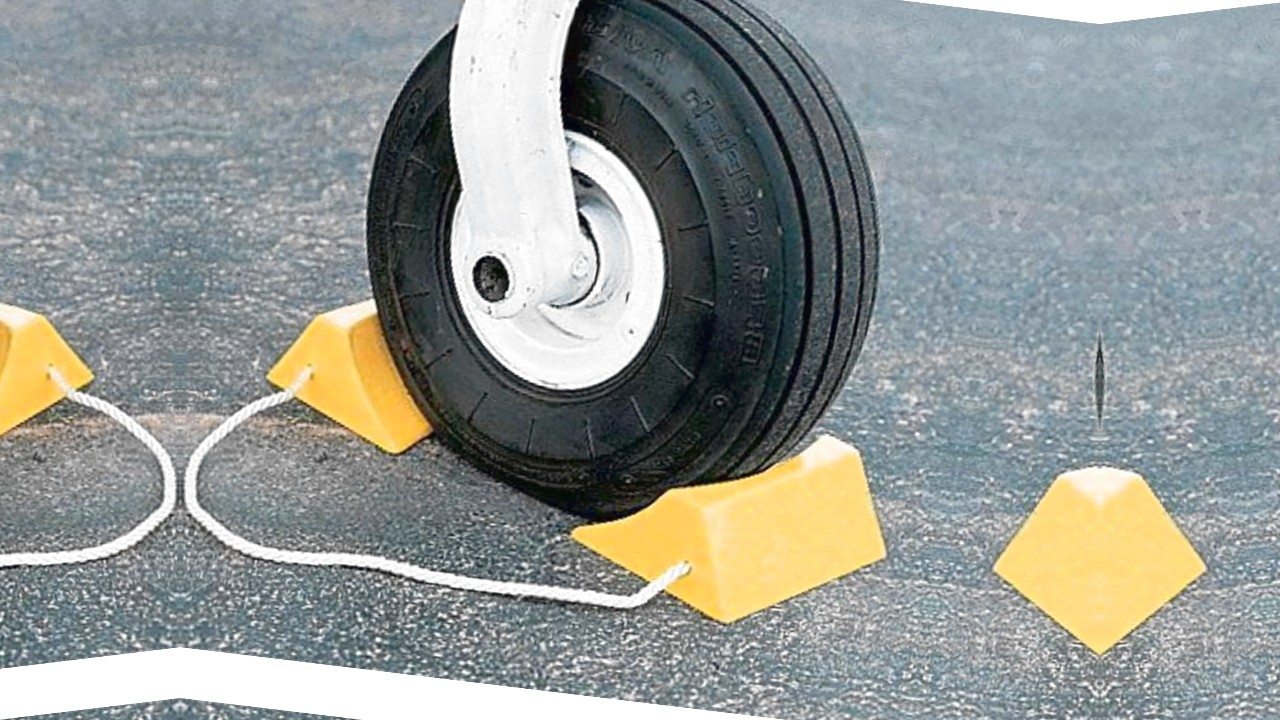chock: (558, 407, 911, 641), (250, 277, 514, 466), (974, 457, 1100, 691), (1100, 457, 1226, 691), (0, 277, 110, 466)
wheel: (304, 0, 935, 553)
